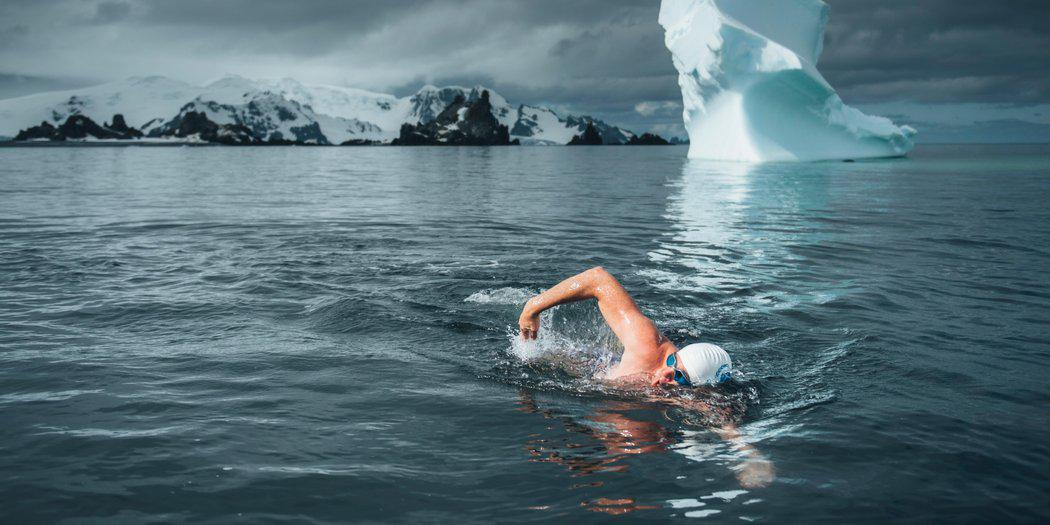swimmer: (505, 266, 736, 406)
